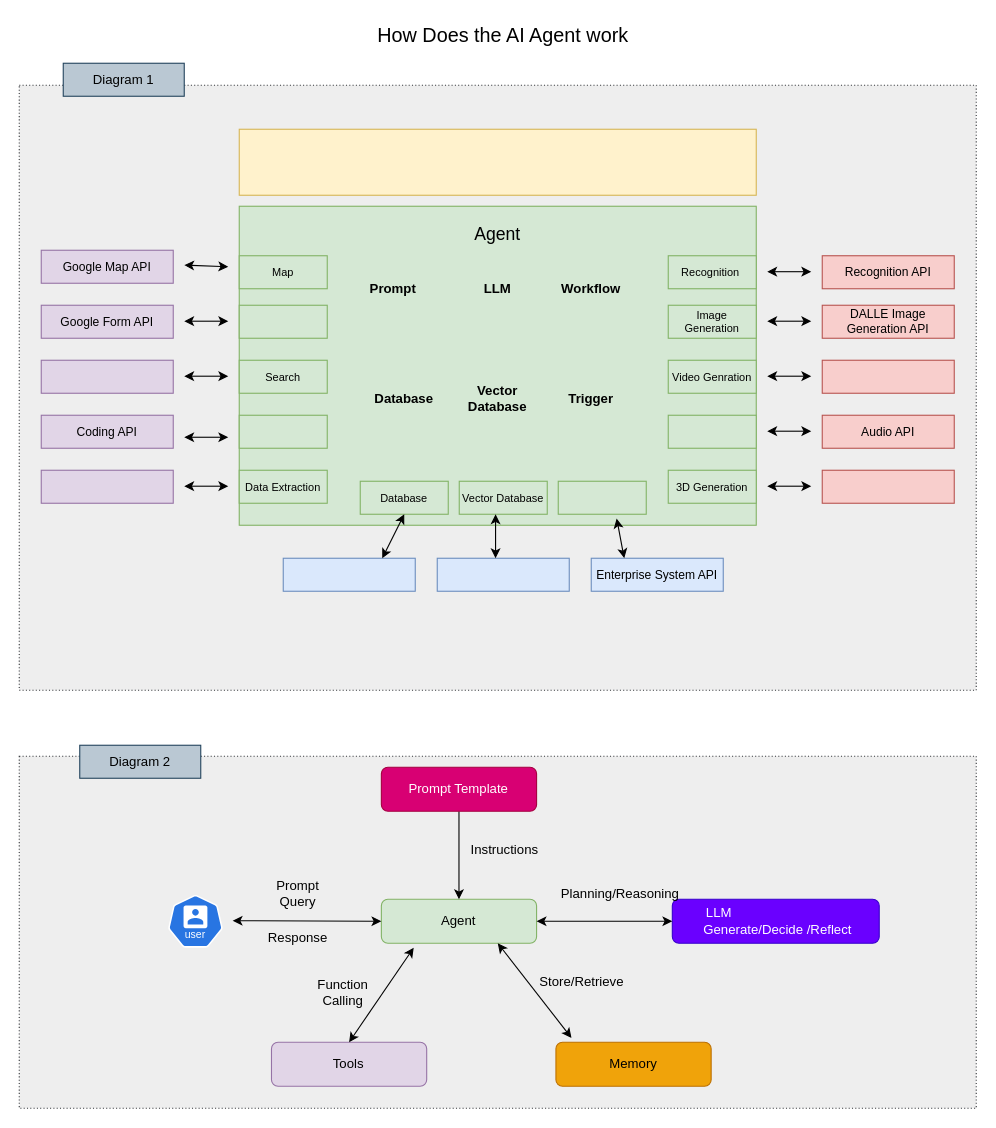
This 996x1128 diagram has some shape labels left out. Each missing label, with the centre of its shape:
3D API: pixel 887 486
Audio Generation: pixel 711 431
Bing Search API: pixel 106 376
Coding: pixel 282 431
Data API: pixel 106 486
Enterprise Database: pixel 348 574
Enterprise Vector Database: pixel 502 574
Form: pixel 282 321
System Trigger: pixel 601 497
User Interface: pixel 497 161
Video Generation API: pixel 887 376
